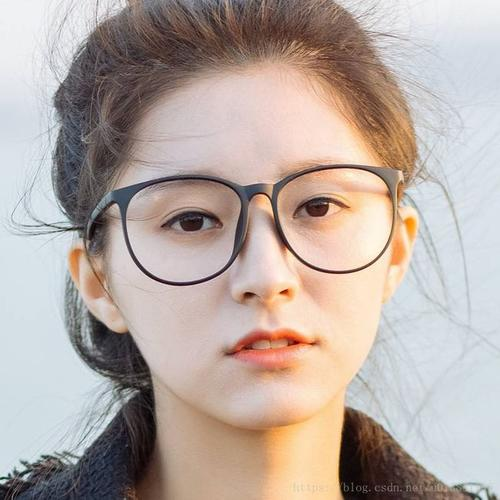no_mask: (97, 62, 399, 412)
